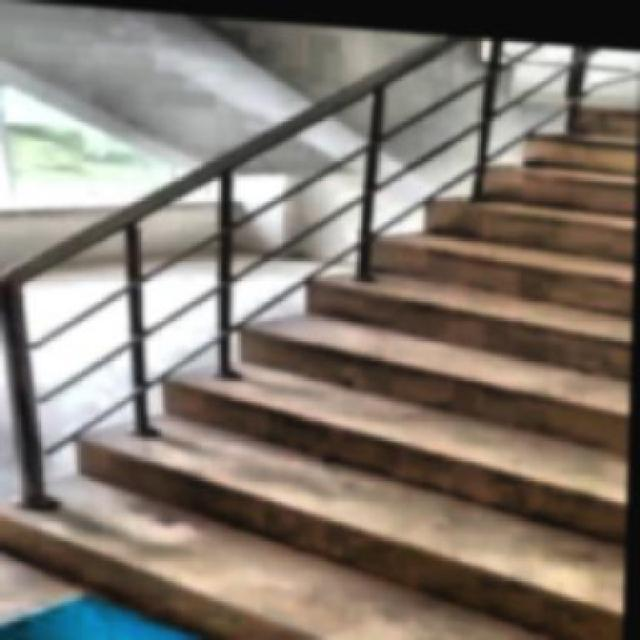stair: (0, 49, 637, 638)
